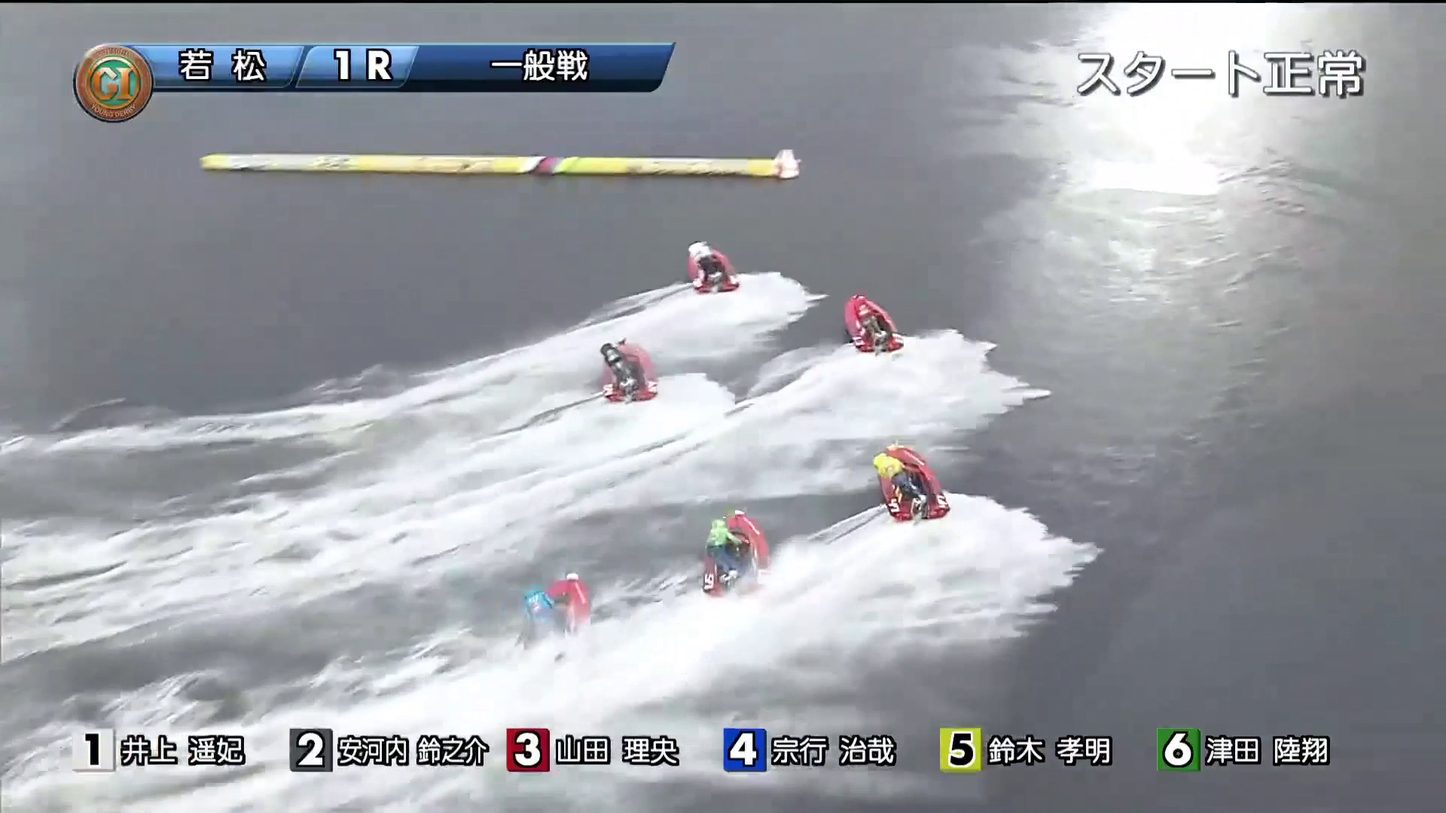１号艇: (671, 246, 741, 299)
２号艇: (577, 360, 706, 420)
３号艇: (823, 314, 921, 361)
４号艇: (661, 538, 795, 604)
５号艇: (468, 604, 591, 659)
６号艇: (872, 470, 972, 527)
